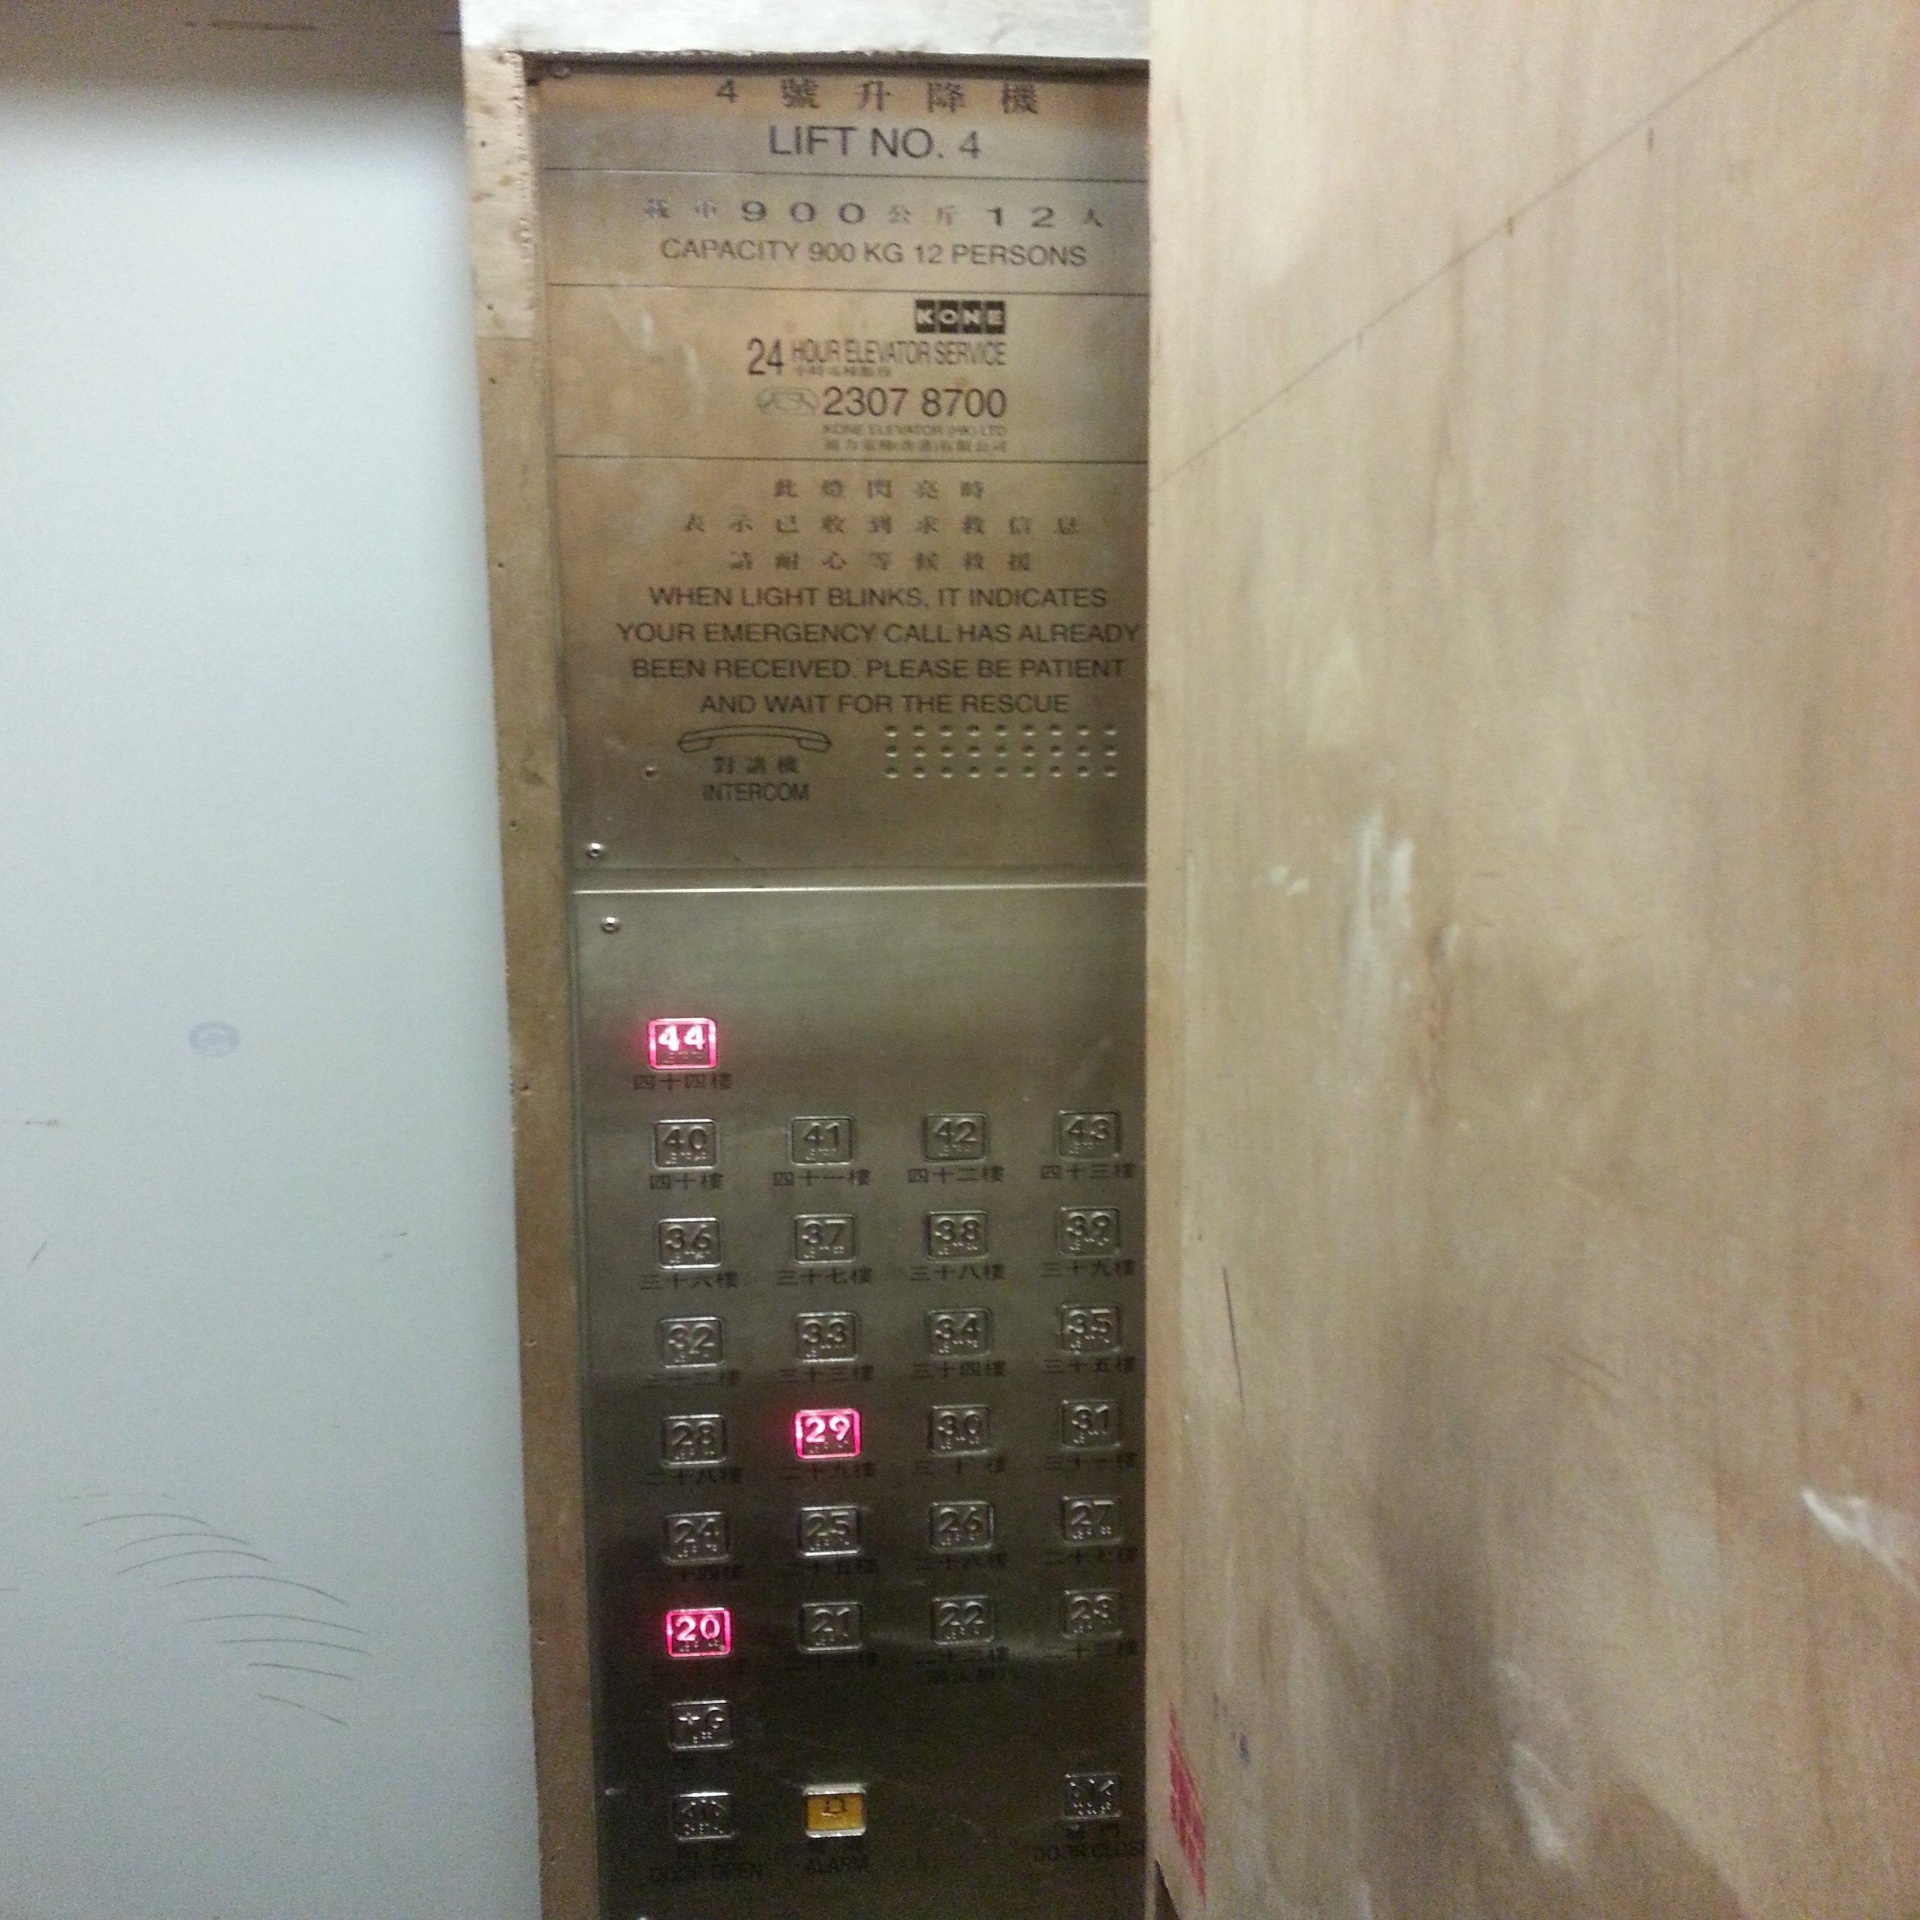20: (661, 1600, 737, 1663)
21: (796, 1598, 867, 1655)
22: (927, 1591, 997, 1647)
23: (1057, 1584, 1129, 1642)
24: (656, 1507, 733, 1567)
25: (791, 1500, 865, 1563)
26: (927, 1496, 993, 1553)
27: (1055, 1489, 1129, 1549)
28: (656, 1408, 731, 1470)
29: (791, 1405, 863, 1463)
30: (925, 1398, 993, 1458)
31: (1058, 1394, 1125, 1451)
32: (652, 1312, 730, 1371)
33: (789, 1305, 860, 1364)
34: (921, 1306, 993, 1361)
35: (1053, 1298, 1124, 1357)
36: (651, 1213, 726, 1273)
37: (789, 1211, 860, 1266)
38: (921, 1206, 993, 1262)
39: (1051, 1199, 1125, 1261)
40: (649, 1116, 724, 1173)
41: (786, 1109, 862, 1167)
42: (916, 1108, 995, 1164)
43: (1051, 1104, 1125, 1159)
44: (644, 1013, 721, 1073)
alarm: (796, 1778, 870, 1841)
close: (1058, 1765, 1124, 1823)
open: (668, 1786, 742, 1844)
sG: (665, 1695, 737, 1755)
